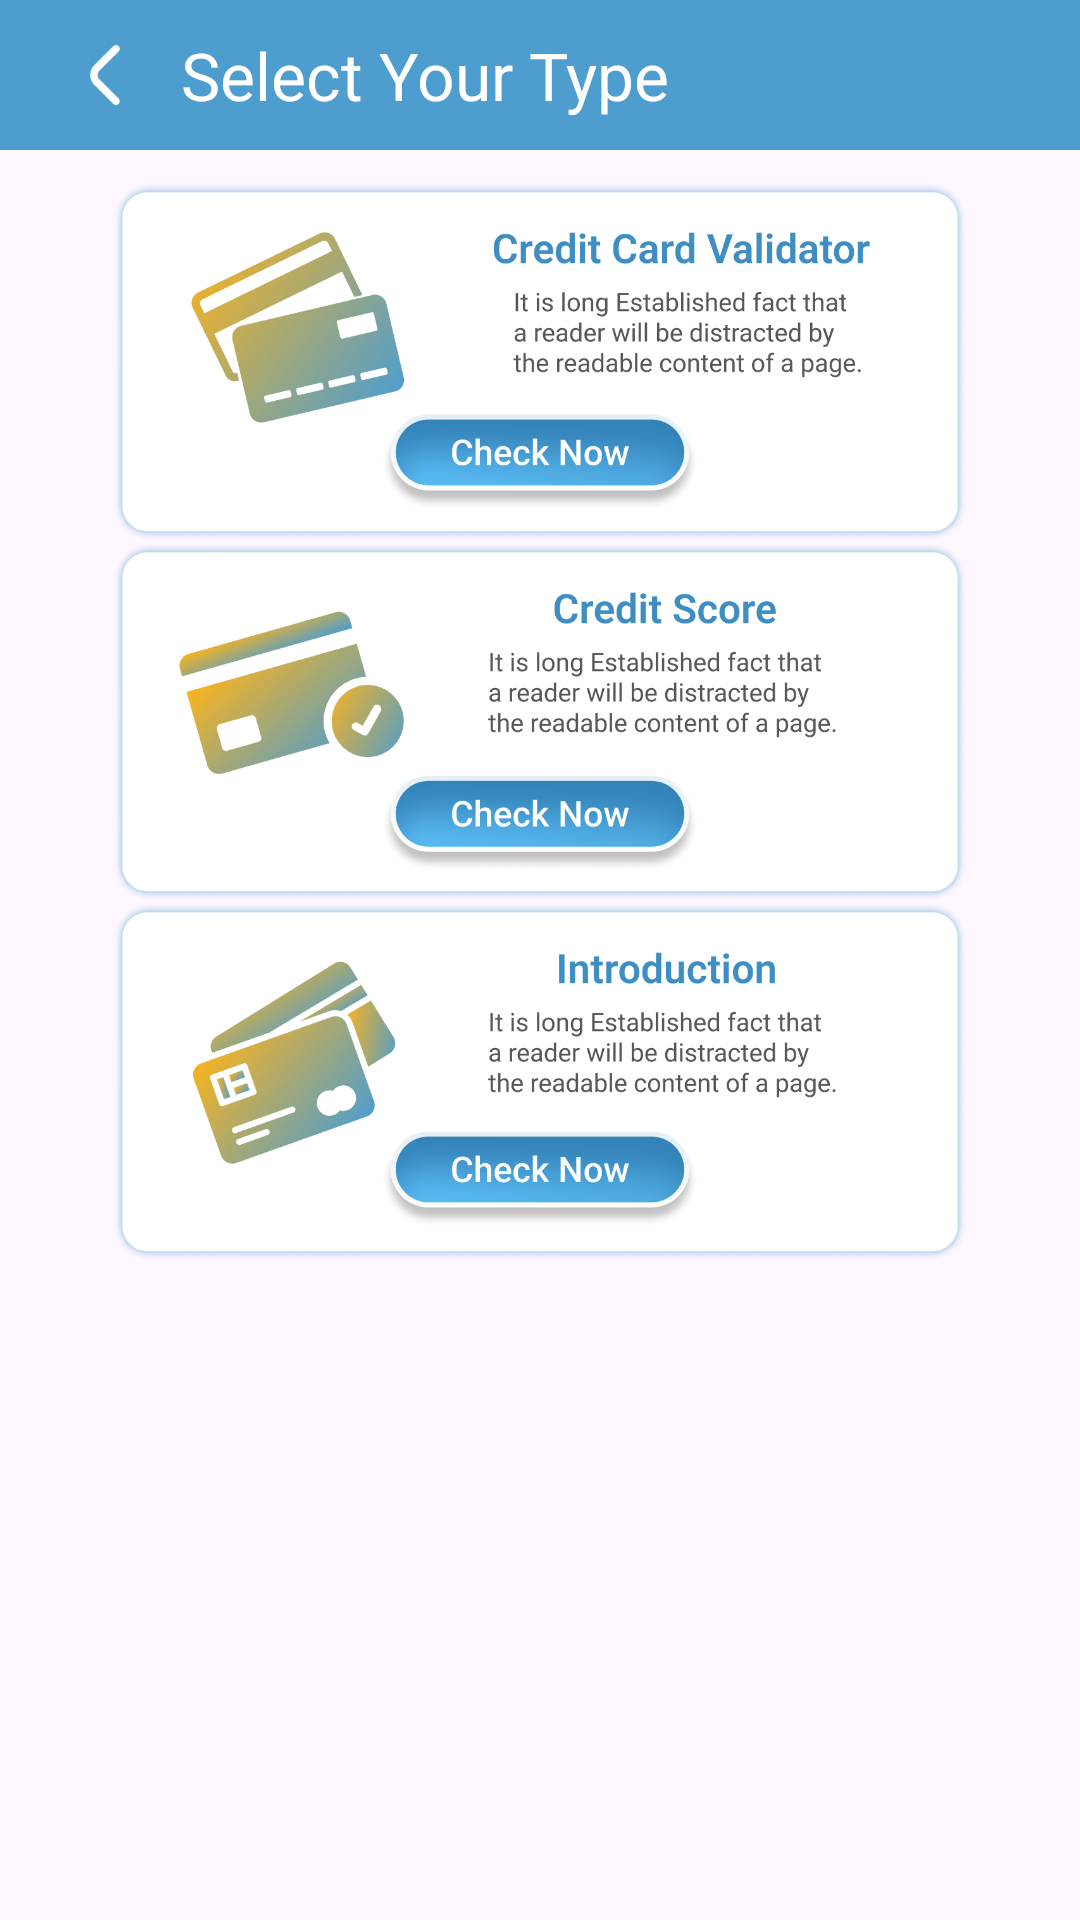

Icons on this 1080×1920 Android screen, each with the point to tap as (x,y):
back: (105,75)
